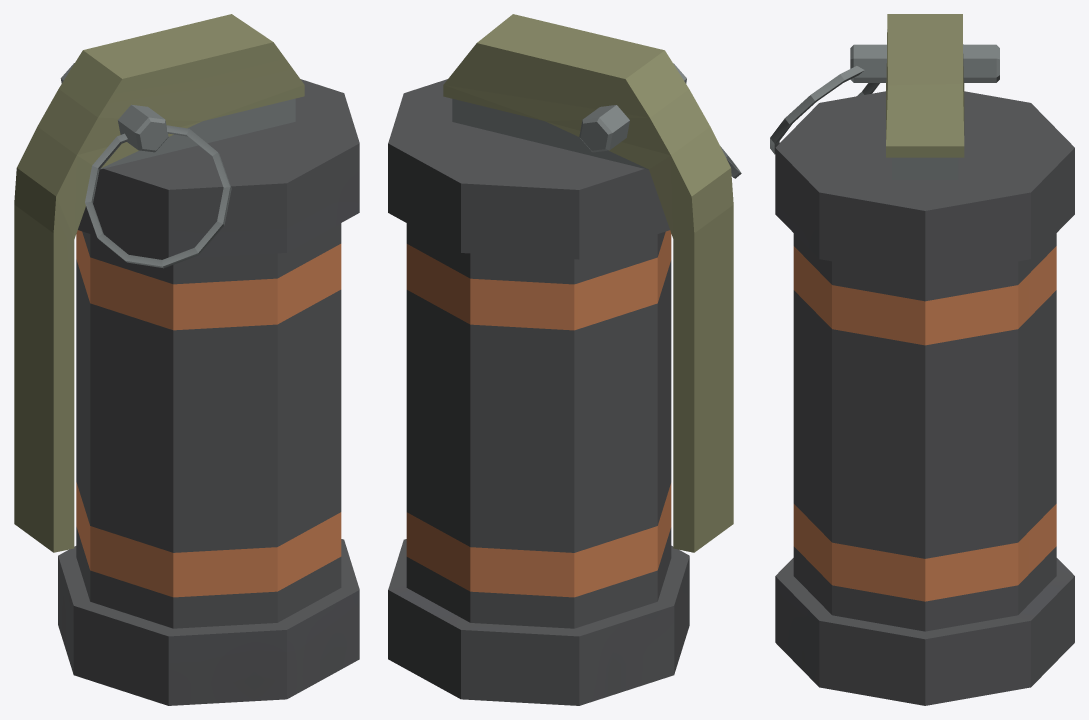
The model's file is Hand_grenade_001.glb.
The picture shows the model from 3 angles, left to right: view 1: azimuth 30°, elevation 25°; view 2: azimuth 150°, elevation 25°; view 3: azimuth 270°, elevation 25°; orthographic projection. The views are drawn at different scales.
Parts seen in each view (by area): view 1: Hand_grenade.001; view 2: Hand_grenade.001; view 3: Hand_grenade.001.
Boxes of the visible parts, x1,y1,x2,y2 form: Hand_grenade.001: [14, 14, 359, 705]; Hand_grenade.001: [388, 14, 741, 705]; Hand_grenade.001: [770, 14, 1074, 705].
Size of the model in its own units: 0.1304 by 0.2424 by 0.1157.
Materials: 1 (1 with a texture image).
